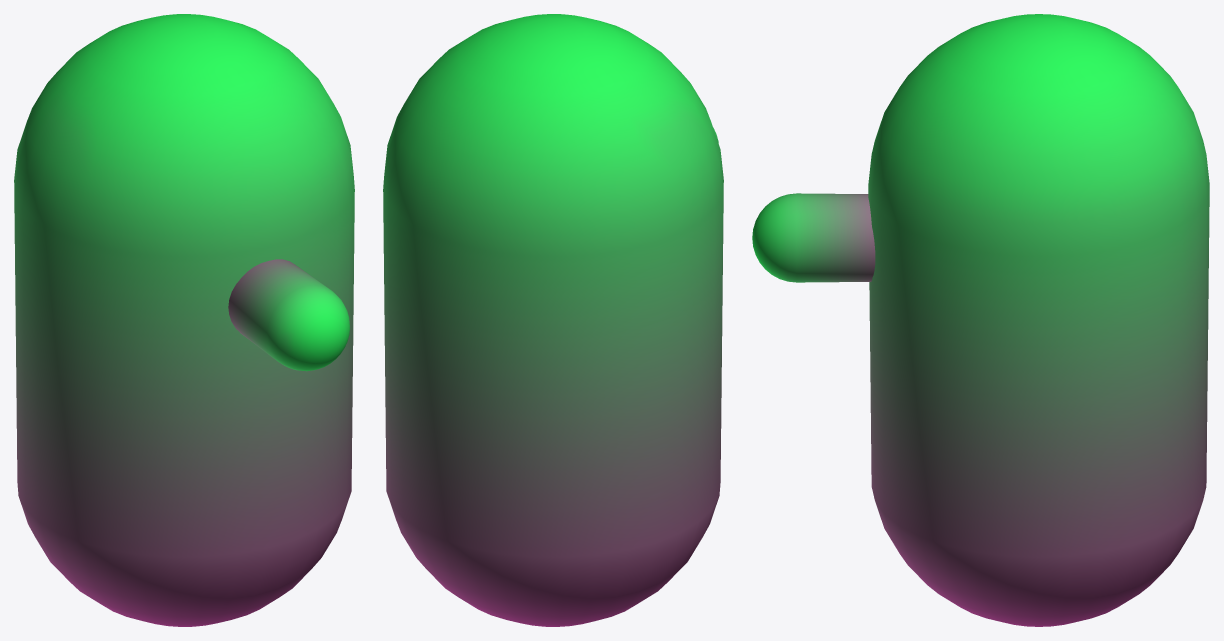
File: Personagem.glb
The picture shows the model from 3 angles, left to right: view 1: azimuth 30°, elevation 25°; view 2: azimuth 150°, elevation 25°; view 3: azimuth 270°, elevation 25°; orthographic projection.
Visible parts, largest first — view 1: Sphere; view 2: Sphere; view 3: Sphere.
Part boxes in pixels (x1,y1,x2,y2): Sphere: [14, 14, 354, 626]; Sphere: [383, 14, 723, 626]; Sphere: [752, 14, 1209, 626].
Bounding box in the file's own units: 2 × 3.76 × 2.68.
1 material, 1 textured.
